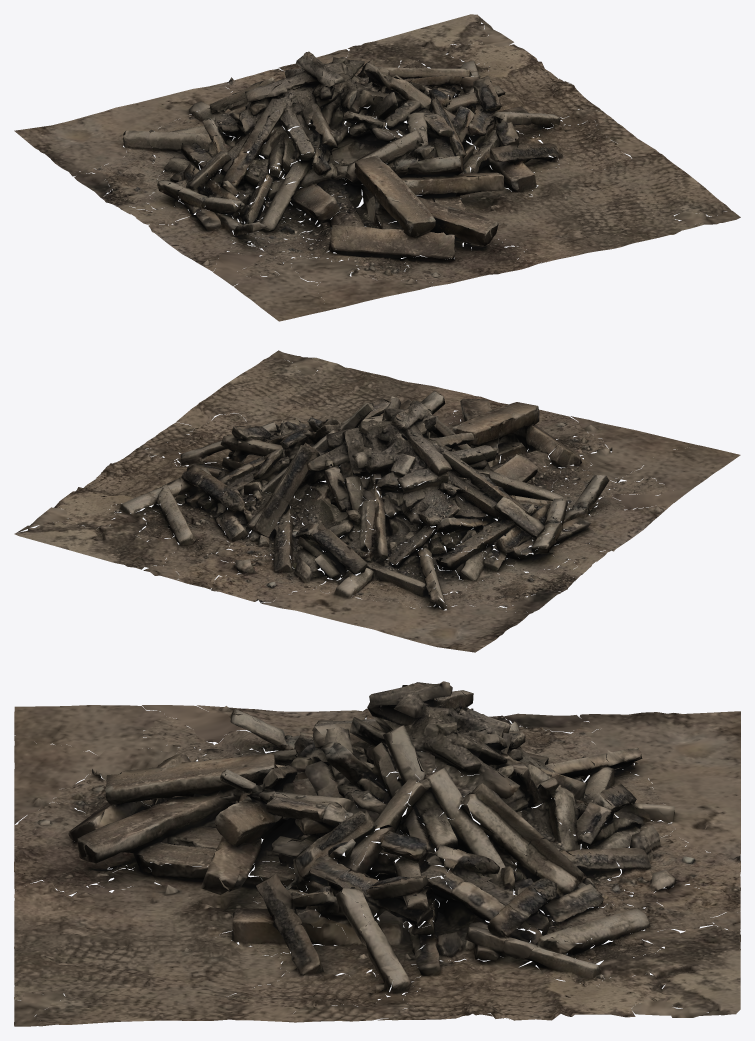
File: splinter_heap.glb
The picture shows the model from 3 angles, top to bottom: view 1: azimuth 30°, elevation 25°; view 2: azimuth 150°, elevation 25°; view 3: azimuth 270°, elevation 25°; orthographic projection. The views are drawn at different scales.
Parts seen in each view (by area): view 1: splinter_heap; view 2: splinter_heap; view 3: splinter_heap.
Part boxes in pixels (x1=…): splinter_heap: x1=14, y1=14, x2=740, y2=321; splinter_heap: x1=14, y1=350, x2=740, y2=652; splinter_heap: x1=14, y1=681, x2=740, y2=1026.
Size of the model in its own units: 3.25 by 0.8098 by 3.22.
Materials: 1 (1 with a texture image).
